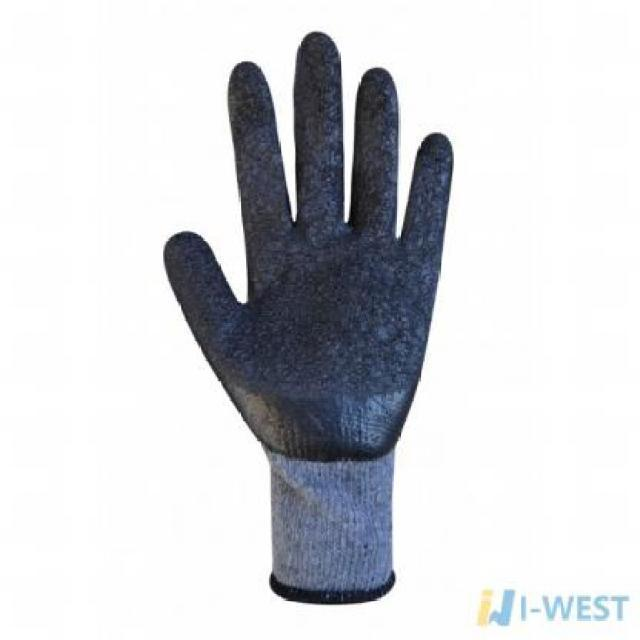gloved_hand: (159, 26, 452, 606)
